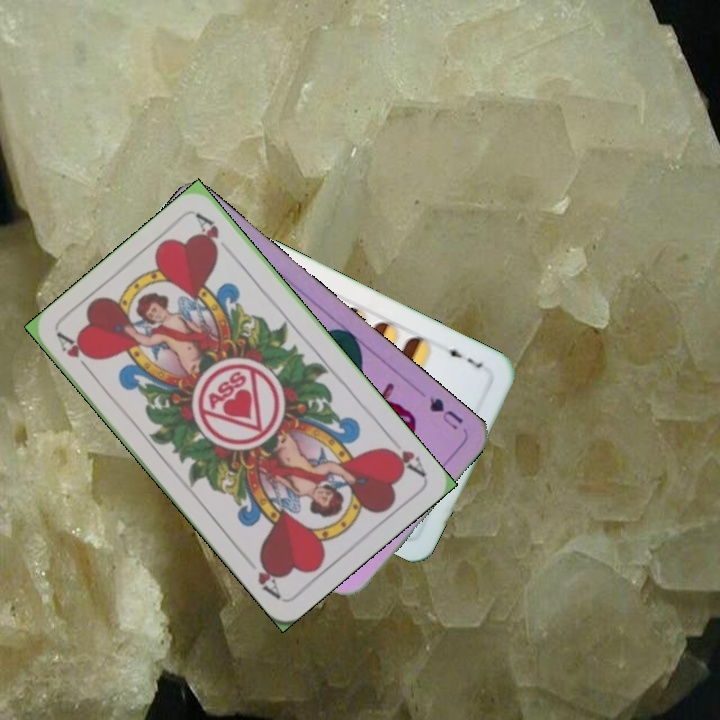E7: (440, 341, 486, 371)
GU: (425, 393, 466, 433)
HA: (379, 431, 428, 479), (53, 329, 97, 379)
